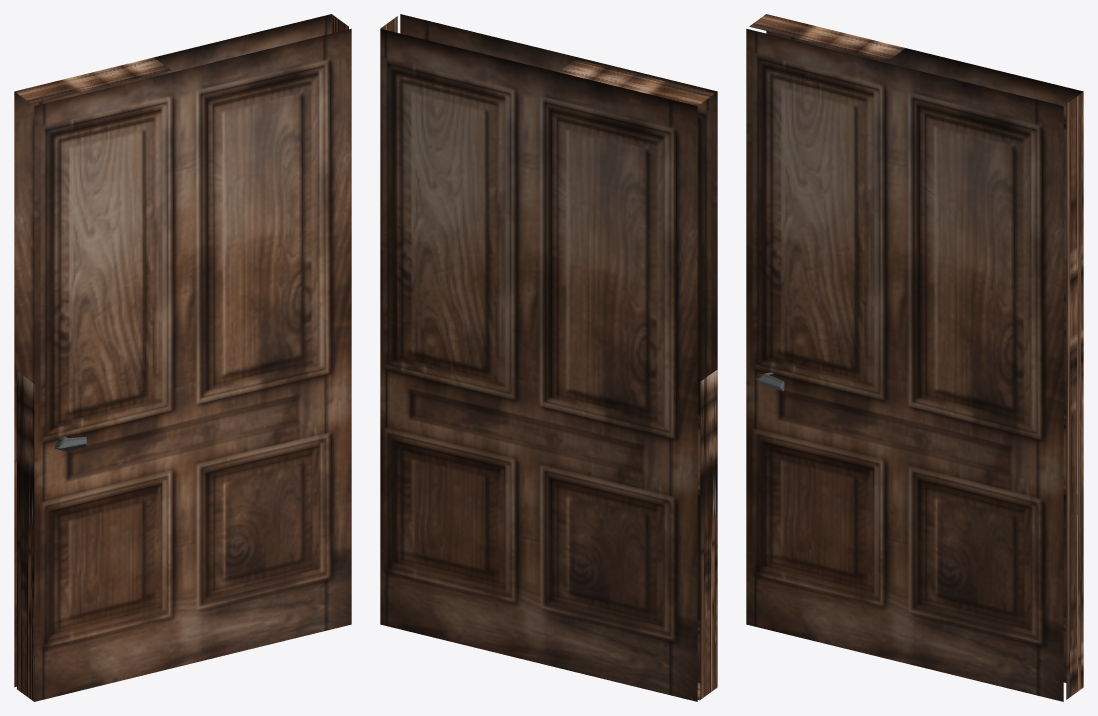
File: Door_1.fbx
3 renders of one model, left to right at view 1: azimuth 30°, elevation 25°; view 2: azimuth 150°, elevation 25°; view 3: azimuth 330°, elevation 25°, orthographic.
Visible parts, largest first — view 1: Door_1; view 2: Door_1; view 3: Door_1.
Boxes of the visible parts, x1=… form: Door_1: x1=14, y1=14, x2=351, y2=701; Door_1: x1=380, y1=14, x2=717, y2=701; Door_1: x1=746, y1=14, x2=1083, y2=701.
Bounding box in the file's own units: 241 × 431 × 38.65.
